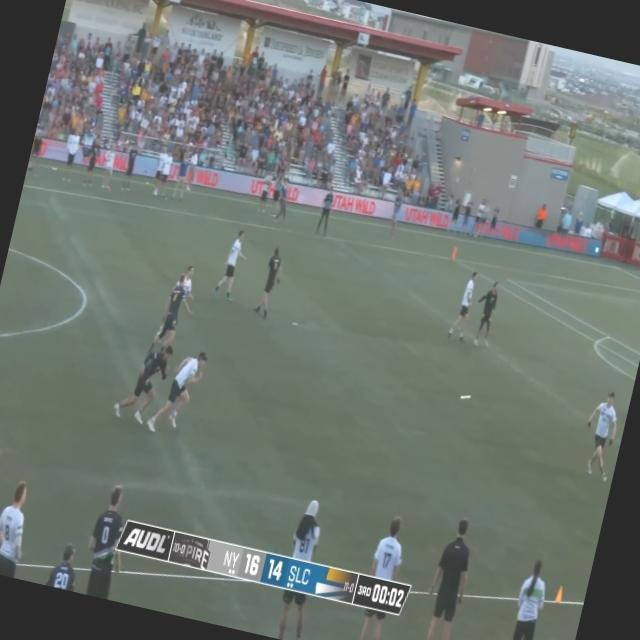Disc: (460, 393, 470, 401)
Player: (146, 343, 207, 436), (114, 336, 172, 424), (575, 388, 626, 483), (150, 272, 188, 359), (212, 229, 252, 306), (467, 277, 502, 351), (446, 265, 479, 343), (252, 244, 285, 316), (174, 264, 200, 299)
